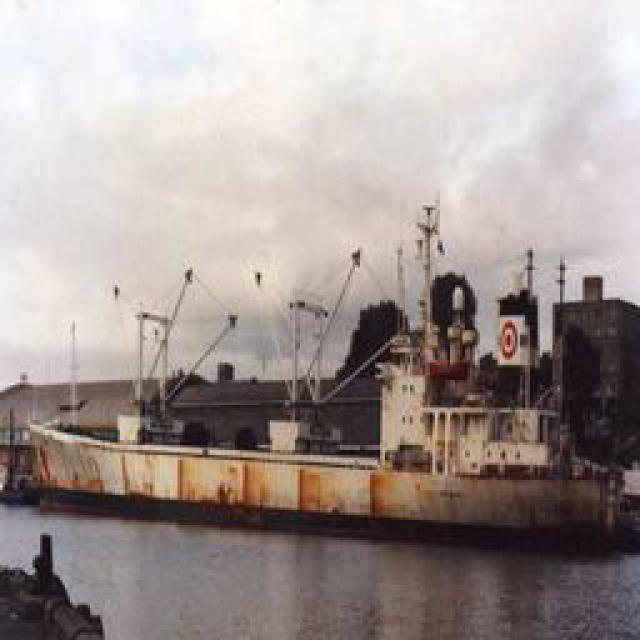Ship: (12, 353, 635, 538)
